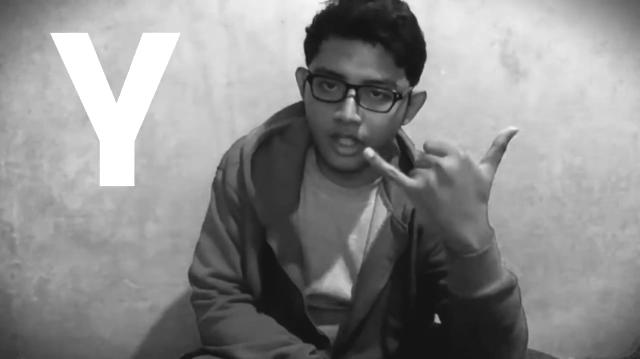Y: (359, 122, 523, 236)
